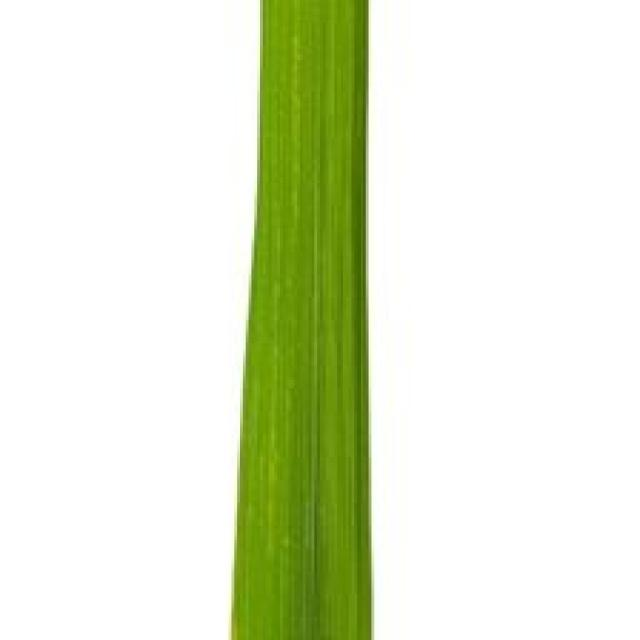Rice___Healthy_Rice_Plant: (230, 0, 375, 637)
